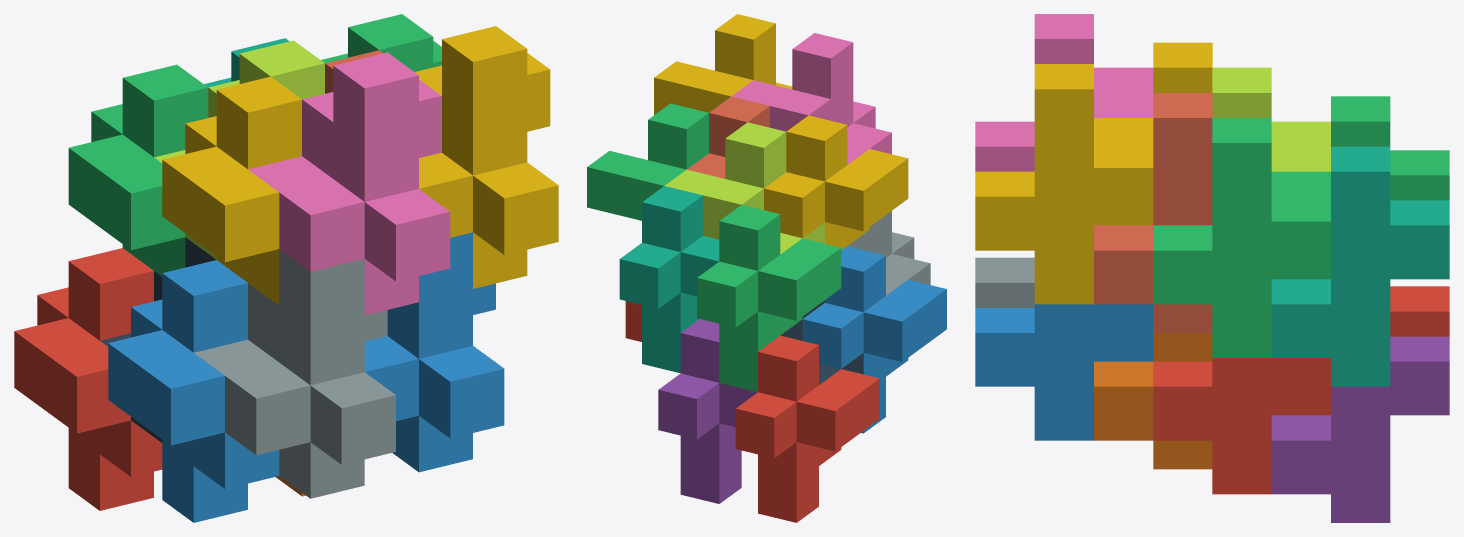
The model's file is tiling.obj.
3 views of the same model, side by side, from view 1: azimuth 30°, elevation 25°; view 2: azimuth 150°, elevation 25°; view 3: azimuth 270°, elevation 25° (orthographic). The views are drawn at different scales.
Parts seen in each view (by area): view 1: copy_2_domain_4, copy_2_domain_2, copy_2_domain_8, copy_1_domain_2, copy_1_domain_1, copy_2_domain_6, copy_1_domain_4, copy_1_domain_3, copy_2_domain_3, copy_2_domain_7, copy_2_domain_1, copy_1_domain_7; view 2: copy_1_domain_1, copy_1_domain_3, copy_1_domain_4, copy_1_domain_2, copy_1_domain_7, copy_1_domain_5, copy_2_domain_4, copy_2_domain_7, copy_2_domain_8, copy_2_domain_3, copy_2_domain_2, copy_1_domain_8 (+2 smaller); view 3: copy_2_domain_8, copy_2_domain_7, copy_1_domain_7, copy_1_domain_5, copy_2_domain_5, copy_2_domain_6, copy_1_domain_8, copy_2_domain_4, copy_1_domain_6, copy_1_domain_3, copy_2_domain_3, copy_1_domain_1 (+2 smaller).
Part boxes in pixels (x1=…): copy_2_domain_4: x1=248, y1=52, x2=450, y2=315; copy_2_domain_2: x1=194, y1=249, x2=395, y2=498; copy_2_domain_8: x1=415, y1=26, x2=558, y2=288; copy_1_domain_2: x1=108, y1=260, x2=279, y2=522; copy_1_domain_1: x1=14, y1=248, x2=162, y2=510; copy_2_domain_6: x1=364, y1=232, x2=504, y2=472; copy_1_domain_4: x1=162, y1=76, x2=301, y2=305; copy_1_domain_3: x1=68, y1=64, x2=208, y2=276; copy_2_domain_3: x1=154, y1=40, x2=324, y2=259; copy_2_domain_7: x1=321, y1=14, x2=441, y2=71; copy_2_domain_1: x1=100, y1=237, x2=215, y2=442; copy_1_domain_7: x1=204, y1=38, x2=289, y2=87; copy_1_domain_1: x1=735, y1=335, x2=879, y2=522; copy_1_domain_3: x1=697, y1=205, x2=841, y2=391; copy_1_domain_4: x1=764, y1=115, x2=908, y2=249; copy_1_domain_2: x1=802, y1=246, x2=946, y2=433; copy_1_domain_7: x1=619, y1=186, x2=719, y2=373; copy_1_domain_5: x1=658, y1=319, x2=757, y2=503; copy_2_domain_4: x1=731, y1=33, x2=891, y2=164; copy_2_domain_7: x1=587, y1=103, x2=708, y2=220; copy_2_domain_8: x1=654, y1=14, x2=792, y2=114; copy_2_domain_3: x1=665, y1=122, x2=824, y2=254; copy_2_domain_2: x1=848, y1=211, x2=930, y2=295; copy_1_domain_8: x1=687, y1=96, x2=769, y2=178; copy_2_domain_8: x1=975, y1=64, x2=1153, y2=304; copy_2_domain_7: x1=1153, y1=118, x2=1330, y2=357; copy_1_domain_7: x1=1271, y1=146, x2=1449, y2=386; copy_1_domain_5: x1=1271, y1=336, x2=1449, y2=522; copy_2_domain_5: x1=1153, y1=358, x2=1330, y2=494; copy_2_domain_6: x1=975, y1=304, x2=1153, y2=440; copy_1_domain_8: x1=1094, y1=93, x2=1212, y2=332; copy_2_domain_4: x1=975, y1=14, x2=1153, y2=171; copy_1_domain_6: x1=1094, y1=333, x2=1212, y2=469; copy_1_domain_3: x1=1331, y1=96, x2=1449, y2=200; copy_2_domain_3: x1=1212, y1=67, x2=1330, y2=171; copy_1_domain_1: x1=1390, y1=286, x2=1449, y2=336.
Size of the model in its own units: 7 by 9 by 8.
